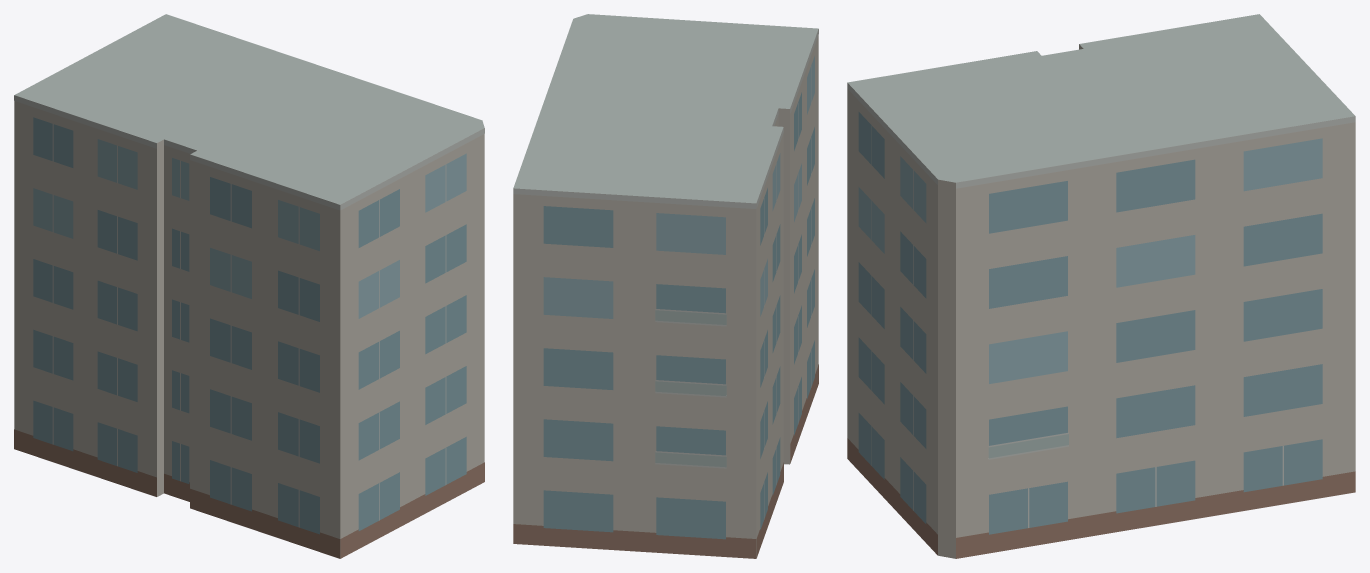
The model's file is survey-upis-32759336.glb.
The picture shows the model from 3 angles, left to right: view 1: azimuth 30°, elevation 25°; view 2: azimuth 150°, elevation 25°; view 3: azimuth 270°, elevation 25°; orthographic projection. The views are drawn at different scales.
Visible parts, largest first — view 1: survey-upis-32759336.tmp; view 2: survey-upis-32759336.tmp; view 3: survey-upis-32759336.tmp.
Boxes of the visible parts, bbox=[...] form: survey-upis-32759336.tmp: bbox=[14, 14, 484, 558]; survey-upis-32759336.tmp: bbox=[513, 14, 818, 558]; survey-upis-32759336.tmp: bbox=[847, 14, 1355, 558].
Bounding box in the file's own units: 14.68 × 15.25 × 18.69.
